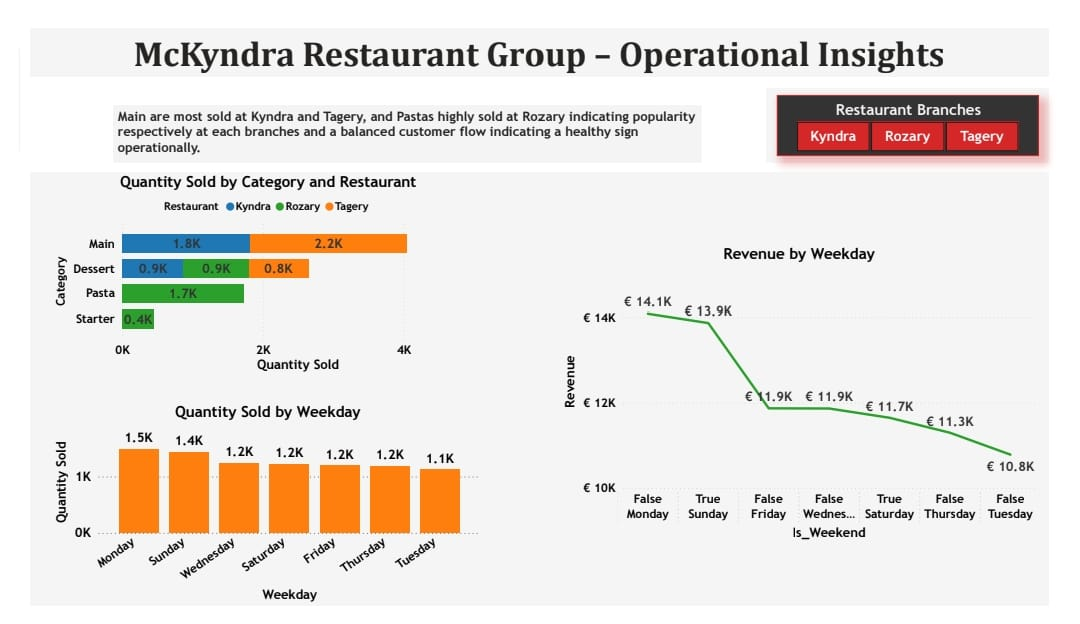

What the dashboard file says about the page in this screenshot:
{"tool":"powerbi","page":{"name":"Operations Control Room","canvas":[1280,720],"ordinal":3},"visuals":[{"type":"shape","box":[916.8,83.8,347.3,91.8],"z":0},{"type":"shape","box":[13.3,187.6,1250.8,532.2],"z":1000},{"type":"textbox","box":[13.3,10.6,1250.8,59.9],"z":2000},{"type":"slicer","title":"Restaurant Branches","fields":{"Values":["cleaned_sales_data_maslow.Restaurant"]},"box":[930.1,93.1,322,74.5],"z":3000},{"type":"lineChart","title":"Revenue by Weekday","fields":{"Y":["Sum(cleaned_sales_data_maslow.Revenue)"],"Category":["cleaned_sales_data_maslow.Weekday","cleaned_sales_data_maslow.Is_Weekend"]},"box":[662.6,276.8,589.5,367.2],"z":4000},{"type":"barChart","title":"Quantity Sold by Category and Restaurant","fields":{"Category":["cleaned_sales_data_maslow.Category"],"Series":["cleaned_sales_data_maslow.Restaurant"],"Y":["Sum(cleaned_sales_data_maslow.Quantity_Sold)"]},"box":[38.6,187.6,534.9,250.2],"z":5000},{"type":"clusteredColumnChart","title":"Quantity Sold by Weekday","fields":{"Category":["cleaned_sales_data_maslow.Weekday"],"Y":["Sum(cleaned_sales_data_maslow.Quantity_Sold)"]},"box":[38.6,469.7,533.6,250.2],"z":6000},{"type":"textbox","box":[115.8,105.1,722.5,70.5],"z":7000}]}

Visuals, with their boxes on the page's 1280x720 design canvas (x1, y1, x2, y2). These are canvas units, not pixel positions in the 1080x624 screenshot, which may show the page scaled, cropped or inside an application window:
shape: box=[917, 84, 1264, 176]
shape: box=[13, 188, 1264, 720]
textbox: box=[13, 11, 1264, 70]
"Restaurant Branches" slicer: box=[930, 93, 1252, 168]
"Revenue by Weekday" lineChart: box=[663, 277, 1252, 644]
"Quantity Sold by Category and Restaurant" barChart: box=[39, 188, 574, 438]
"Quantity Sold by Weekday" clusteredColumnChart: box=[39, 470, 572, 720]
textbox: box=[116, 105, 838, 176]
